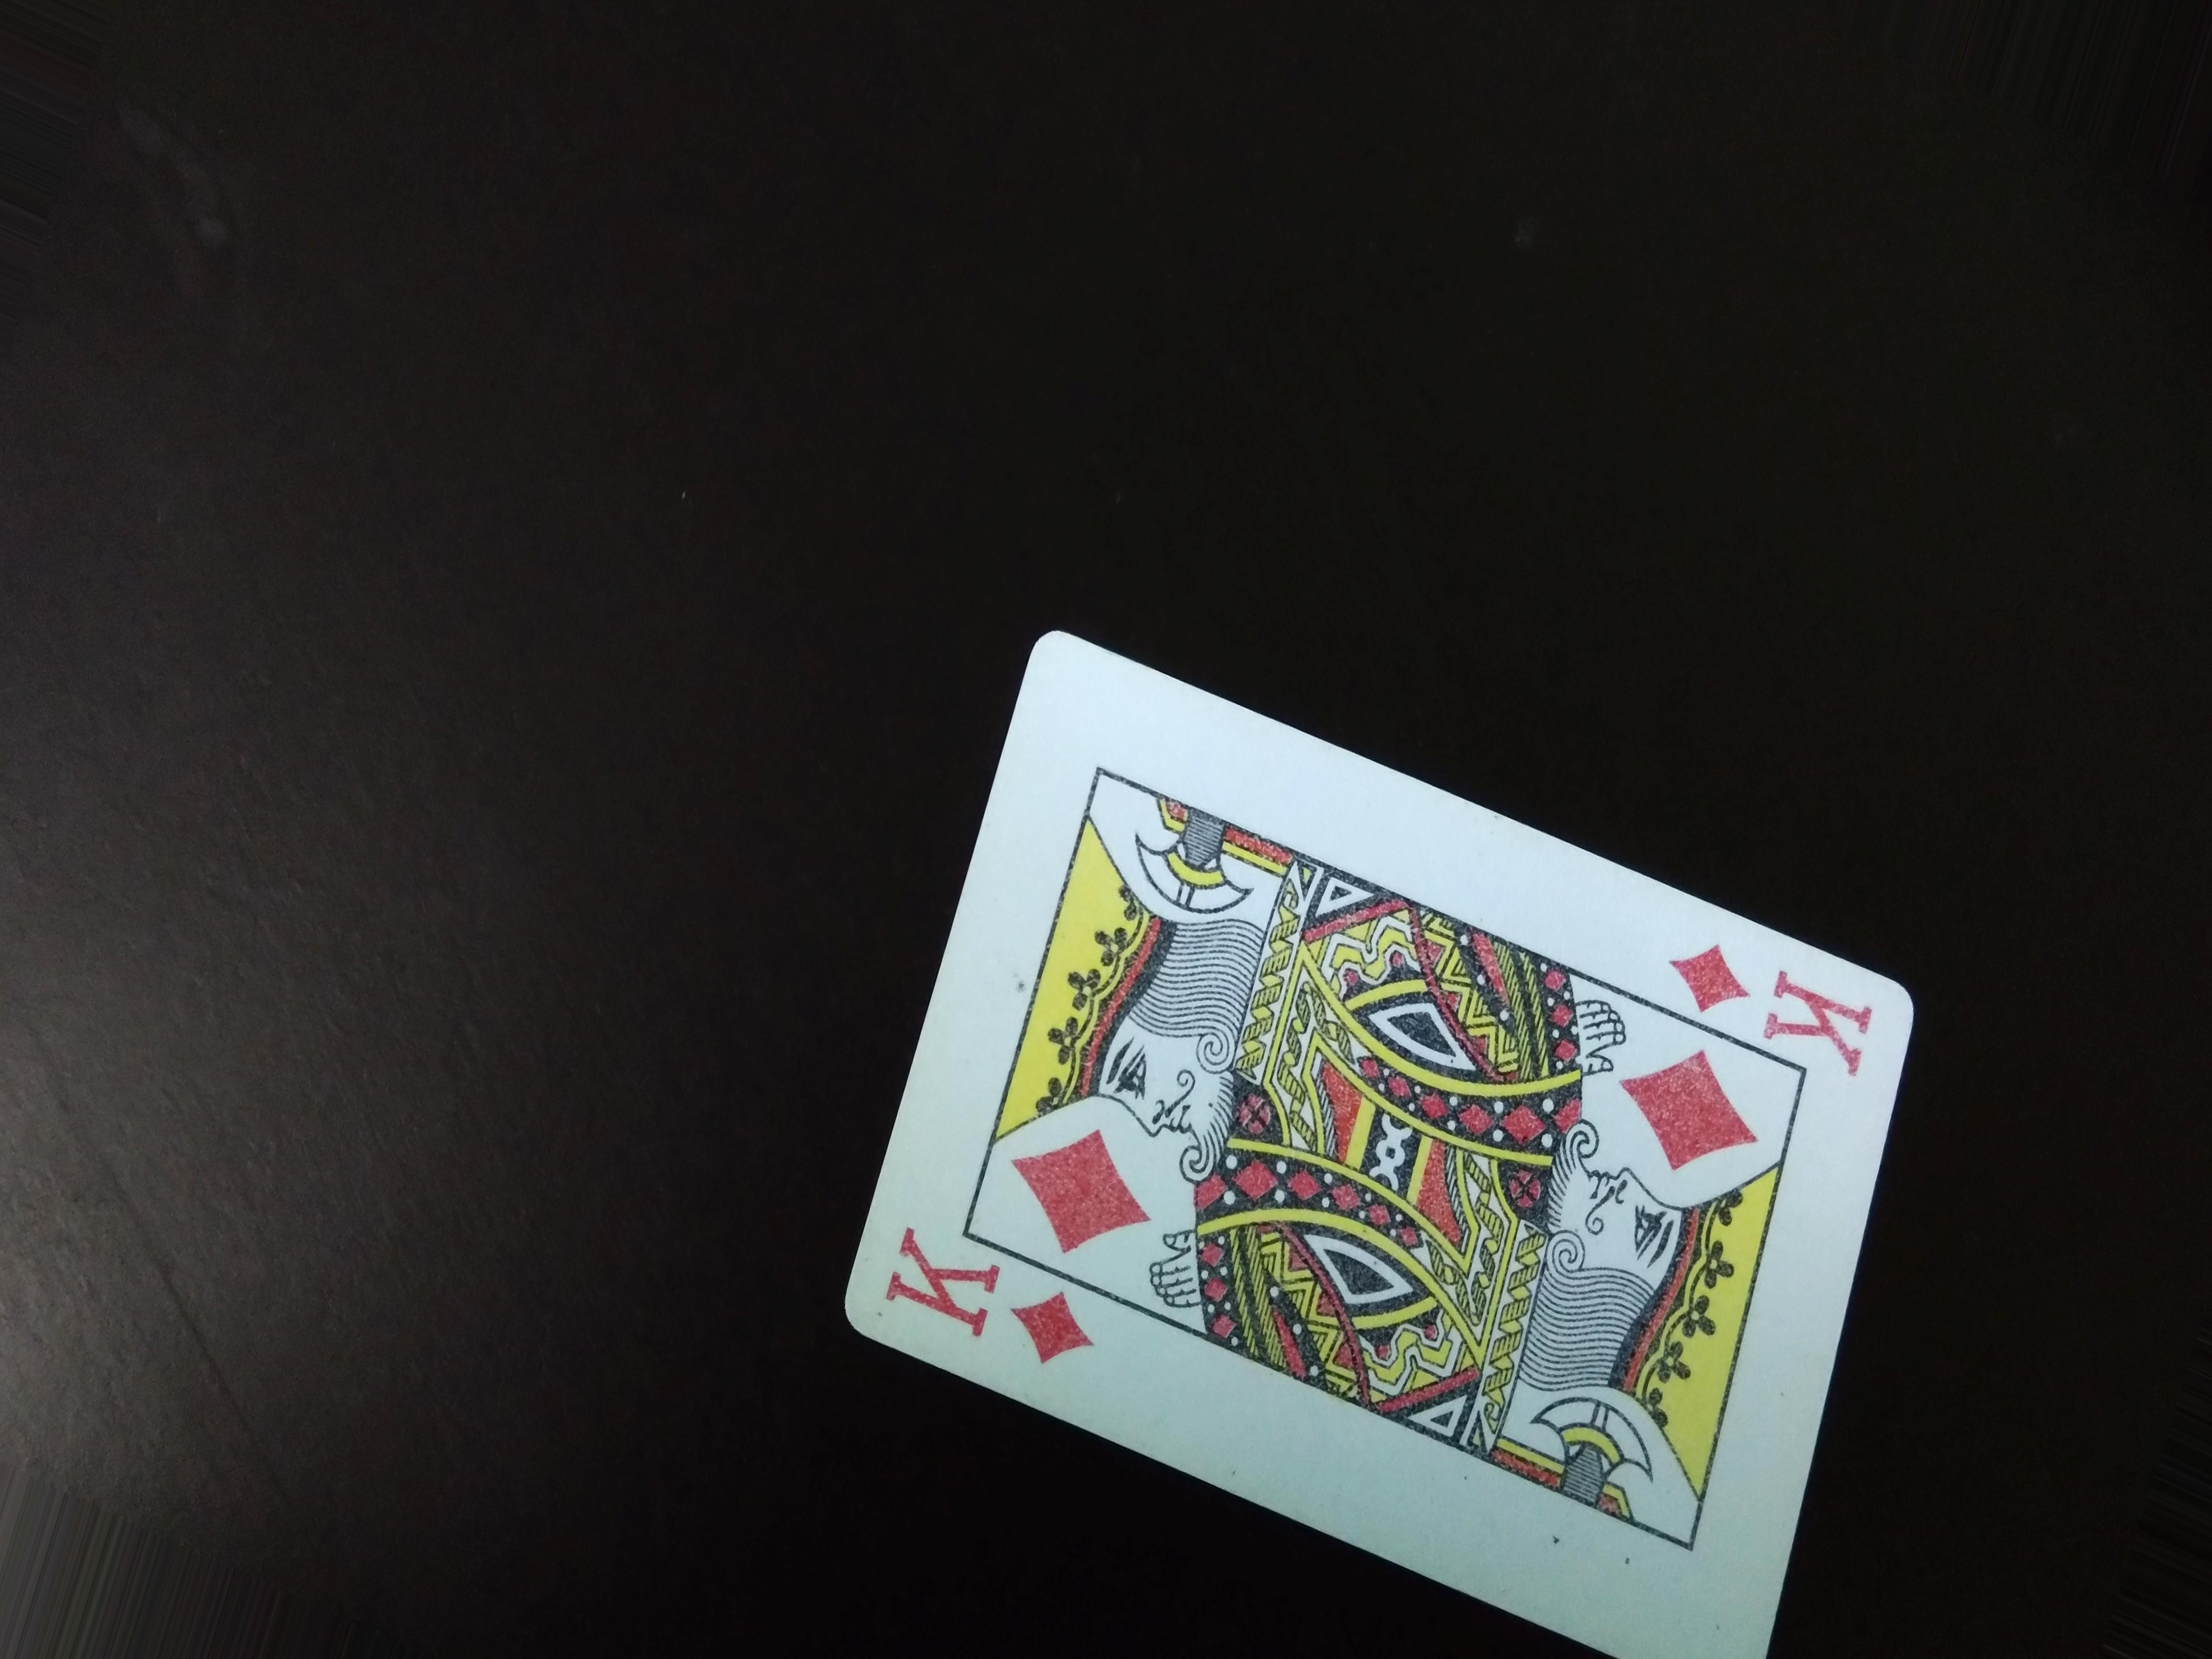KD: (876, 1229, 1085, 1389)
